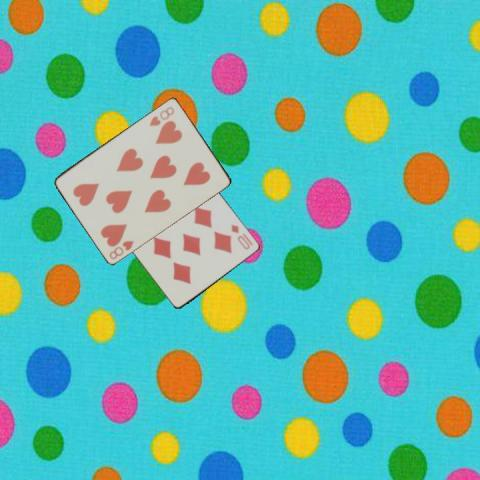10d: (229, 221, 251, 251)
8h: (146, 104, 176, 128), (106, 237, 135, 261)
